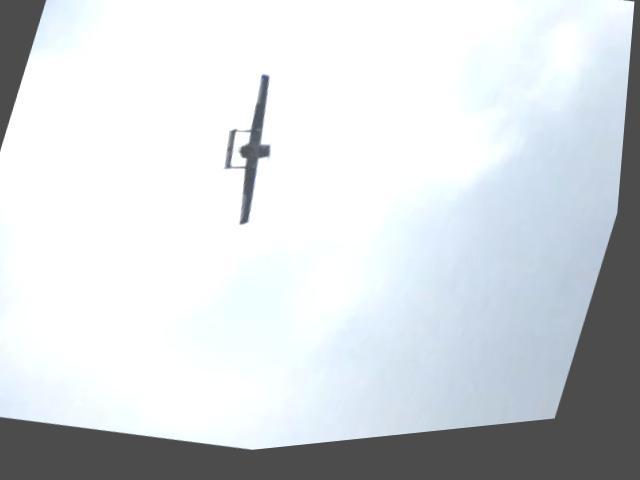uav: (200, 70, 297, 244)
